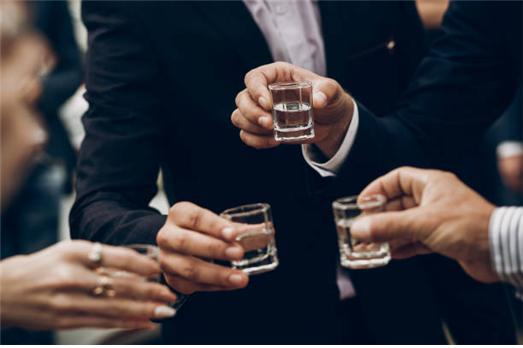alcohol: (332, 193, 391, 270), (221, 204, 278, 276), (270, 80, 317, 142), (116, 245, 162, 292)
